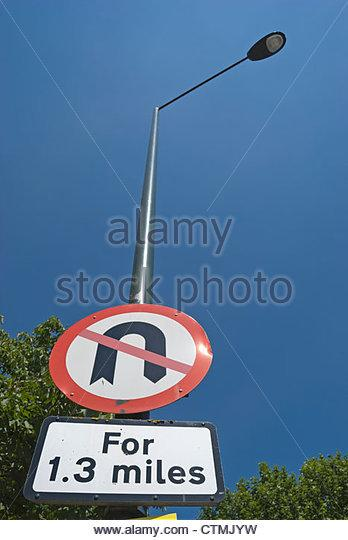no_u_turn: (48, 302, 211, 411)
